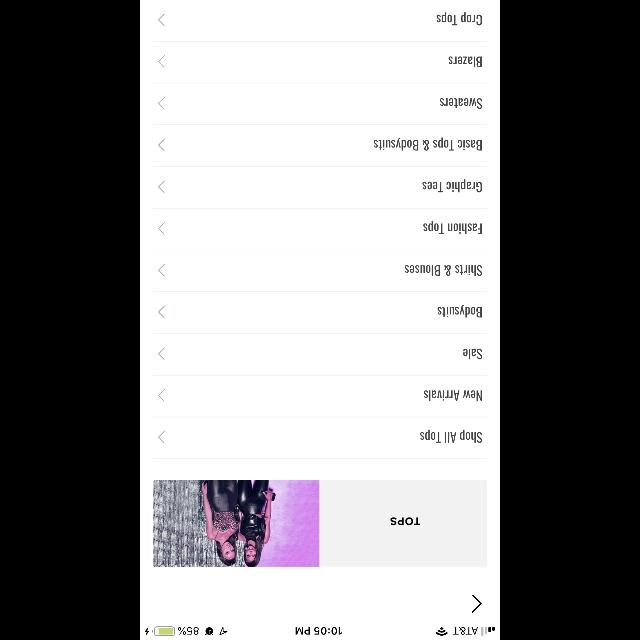icon: (472, 594, 482, 612), (158, 14, 165, 26), (158, 55, 165, 67), (158, 97, 165, 109), (158, 139, 165, 151), (158, 181, 165, 193), (158, 222, 165, 234), (158, 264, 165, 276), (158, 306, 165, 318), (158, 348, 165, 360), (158, 389, 165, 401), (158, 431, 165, 443)
image: (153, 479, 319, 566)
text: (374, 138, 482, 150), (404, 264, 482, 276), (420, 430, 482, 442), (422, 222, 482, 234), (422, 180, 482, 192), (436, 12, 482, 26), (423, 391, 481, 402), (437, 304, 481, 318), (439, 98, 481, 110), (448, 56, 482, 68), (390, 517, 420, 525), (462, 348, 482, 359)
uppertaskbar: (140, 626, 500, 640)
